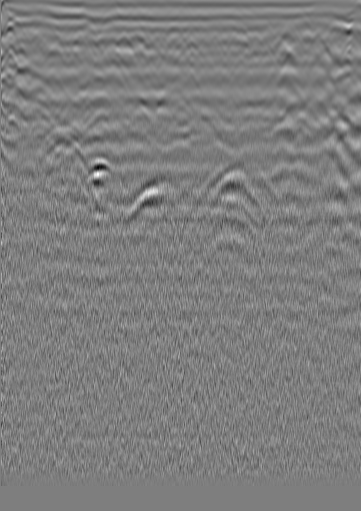가스: (72, 157, 115, 189)
상수: (302, 28, 322, 48)
오수: (44, 41, 64, 61)
우수: (176, 28, 196, 48)
